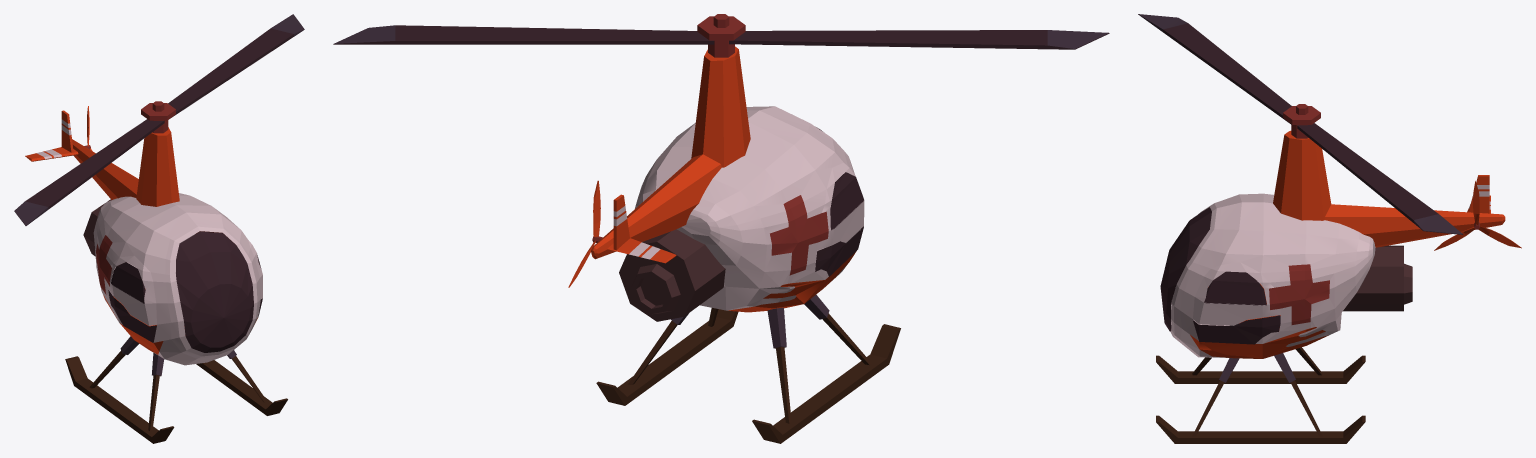
The picture shows the model from 3 angles, left to right: view 1: azimuth 30°, elevation 25°; view 2: azimuth 150°, elevation 25°; view 3: azimuth 270°, elevation 25°; orthographic projection. The views are drawn at different scales.
Visible parts, largest first — view 1: B_01, B_01_01, B_01_03; view 2: B_01, B_01_03, B_01_01; view 3: B_01, B_01_03, B_01_01, B_01_02.
Part boxes in pixels (x1,y1,x2,y2): B_01: (25, 101, 287, 443); B_01_01: (108, 231, 262, 352); B_01_03: (14, 14, 304, 225); B_01: (591, 14, 900, 443); B_01_03: (333, 25, 1109, 49); B_01_01: (815, 127, 863, 276); B_01: (1156, 104, 1505, 443); B_01_03: (1138, 14, 1463, 234); B_01_01: (1160, 207, 1280, 344); B_01_02: (1434, 181, 1521, 250).
Bounding box in the file's own units: 1269 × 818 × 934.
1 material, 1 textured.
